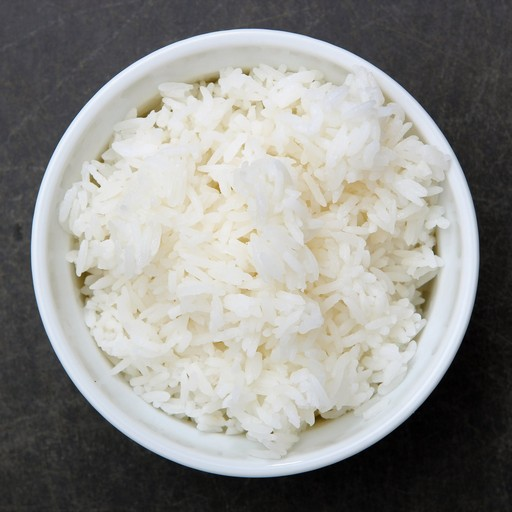rice: (120, 159, 406, 378)
